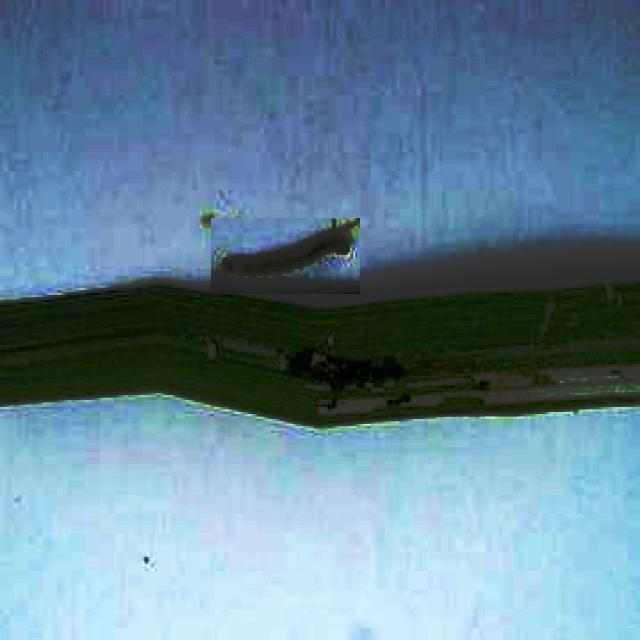leaf-folder: (211, 219, 360, 295)
